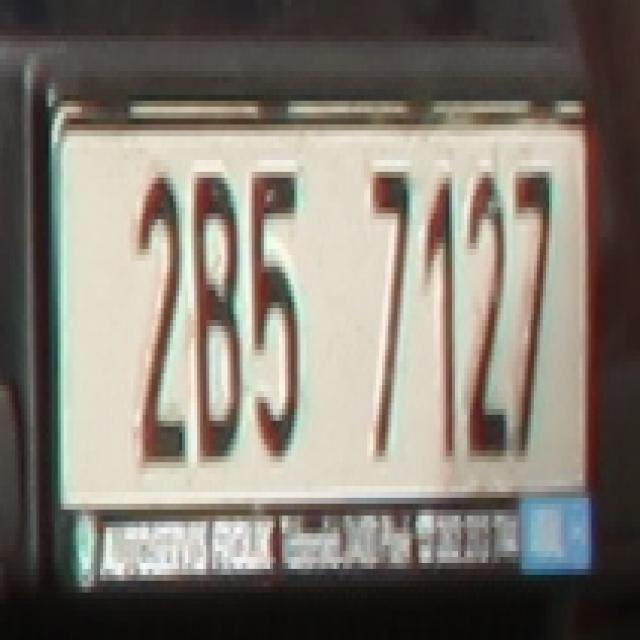1: (418, 160, 458, 462)
2: (130, 178, 185, 468), (467, 166, 513, 457)
5: (242, 160, 298, 456)
7: (367, 160, 413, 462), (512, 178, 552, 468)
B: (192, 172, 236, 456)
